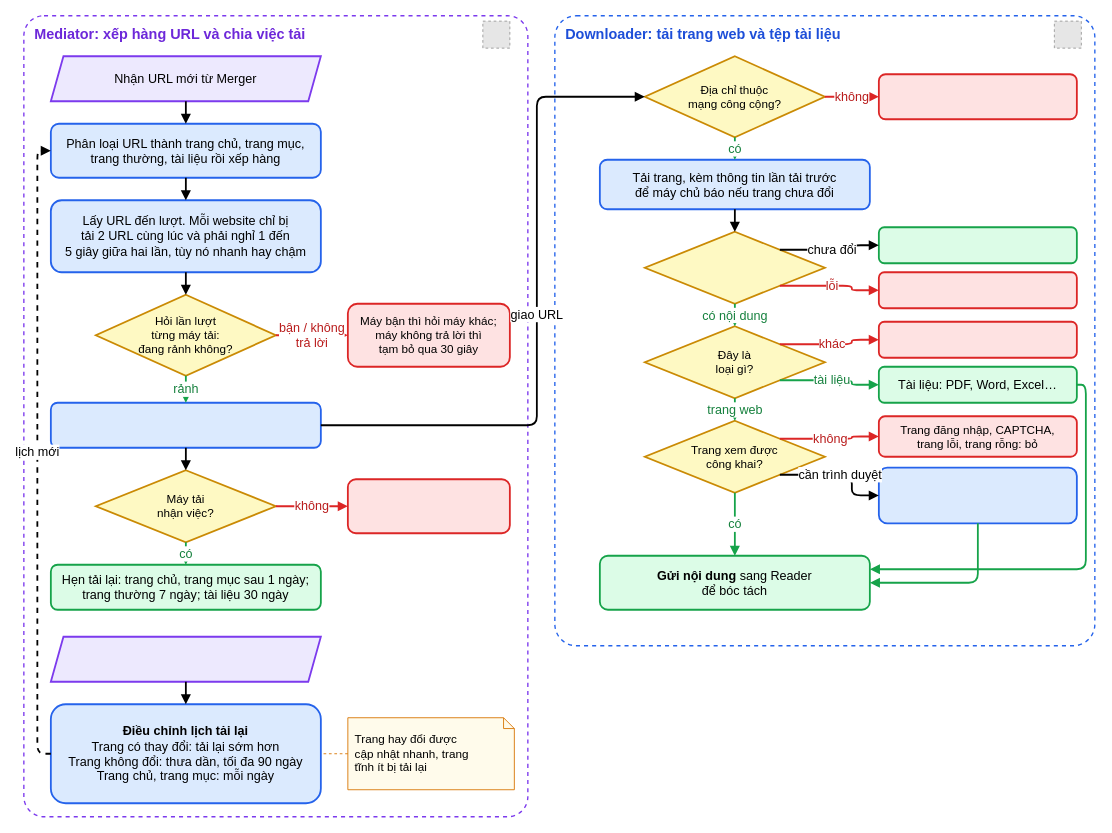
This 1112x833 diagram has some shape labels left out. Grey dashed boxes stand in for pictures. Each missing label, with the centre of its shape:
"Chưa đổi: không tải lại" belongs at (977,245).
"Giao URL cho máy tải" belongs at (185,424).
"Lỗi: trang hỏng, mất mạng" belongs at (977,290).
"Merger báo kết quả mỗi lần tải: trang có thay đổi hay không" belongs at (185,658).
"Máy chủ trả lời gì?" belongs at (734,267).
"Thử lại tối đa 5 lần, sau đó để lần định kỳ sau" belongs at (428,506).
"Trang cần chạy JavaScript mới hiện nội dung: mở bằng trình duyệt qua Playwright" belongs at (977,495).
"Từ chối, không vào mạng nội bộ" belongs at (977,96).
"Video, tệp nén: bỏ qua" belongs at (977,339).
